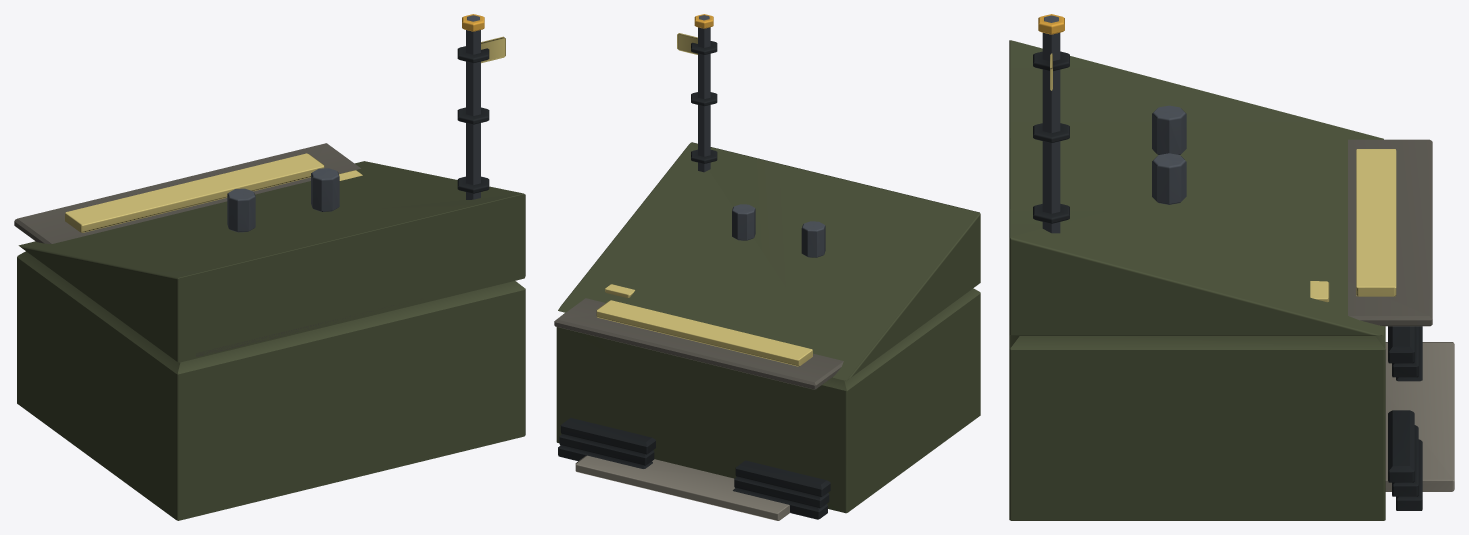
File: barracks.glb
3 views of the same model, side by side, from view 1: azimuth 30°, elevation 25°; view 2: azimuth 150°, elevation 25°; view 3: azimuth 270°, elevation 25° (orthographic). The views are drawn at different scales.
Visible parts, largest first — view 1: Body; view 2: Body; view 3: Body.
Part boxes in pixels (left/top/right/bottom): Body: left=14, top=14, right=525, bottom=520; Body: left=554, top=14, right=980, bottom=520; Body: left=1009, top=14, right=1454, bottom=520.
Bounding box in the file's own units: 6 × 6.8 × 5.68.
